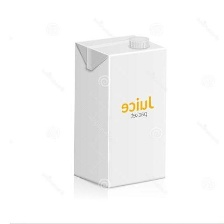carton: (69, 27, 171, 192)
